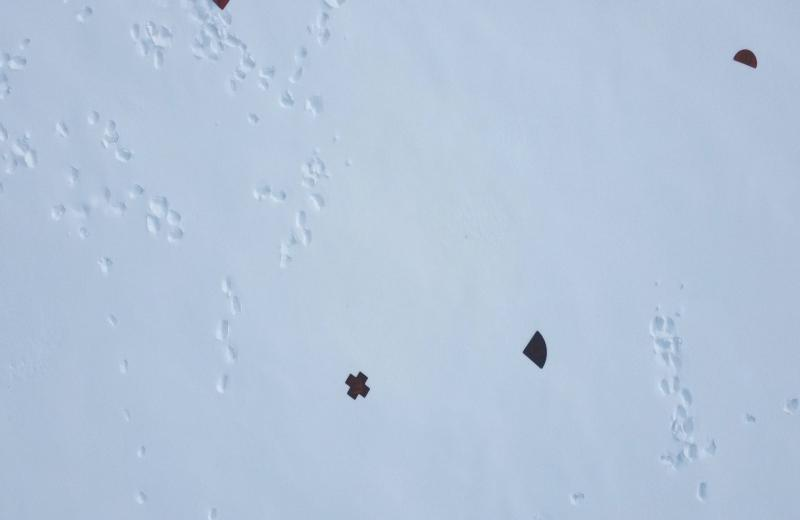Cross: (345, 370, 372, 402)
Quarter Circle: (519, 329, 549, 371)
Rectangle: (206, 0, 233, 11)
Semi Circle: (730, 44, 762, 72)
